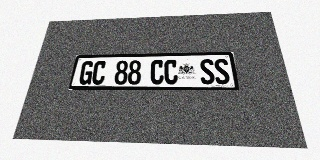8: (114, 60, 129, 85), (127, 60, 142, 85)
C: (91, 61, 107, 85), (164, 59, 178, 84), (150, 60, 164, 84)
G: (78, 61, 95, 85)
S: (213, 59, 231, 84), (199, 59, 215, 84)
